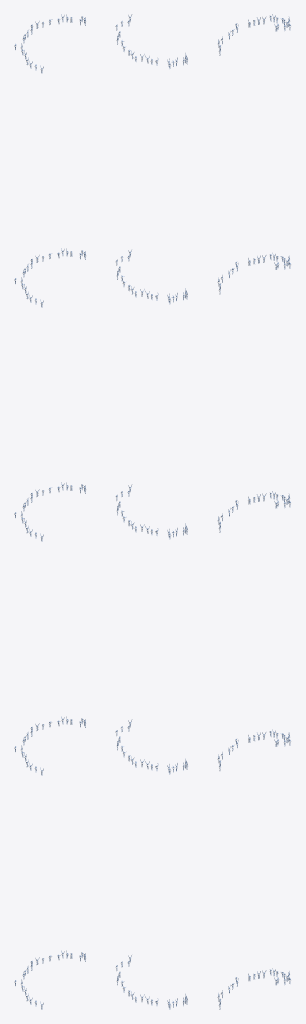
Rendered from Circle9Crowd3.obj.
3 views of the same model, side by side, from view 1: azimuth 30°, elevation 25°; view 2: azimuth 150°, elevation 25°; view 3: azimuth 330°, elevation 25° (orthographic).
Parts seen in each view (by area): view 1: Circle9Crowd3; view 2: Circle9Crowd3; view 3: Circle9Crowd3.
Part boxes in pixels (left/top/right/bottom): Circle9Crowd3: left=14, top=14, right=86, bottom=1009; Circle9Crowd3: left=115, top=14, right=188, bottom=1009; Circle9Crowd3: left=217, top=14, right=291, bottom=1009.
Bounding box in the file's own units: 27.23 × 400 × 23.48.
1 material, 1 textured.
